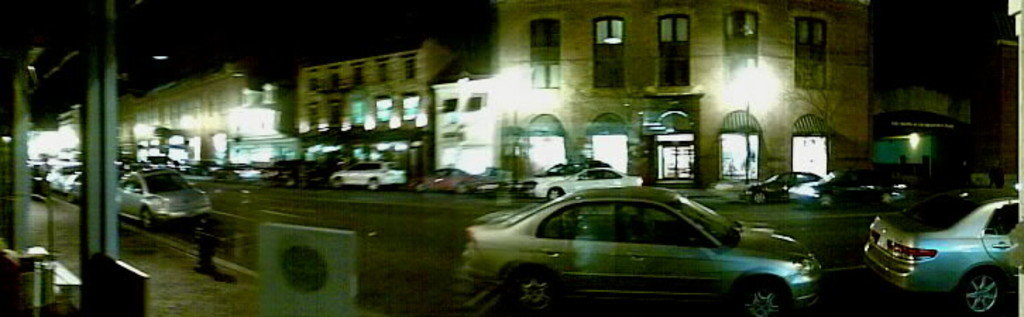car: (443, 179, 819, 317), (852, 181, 1024, 317), (103, 158, 221, 239), (510, 154, 658, 208), (324, 153, 417, 199), (422, 161, 508, 207), (734, 168, 822, 206)
